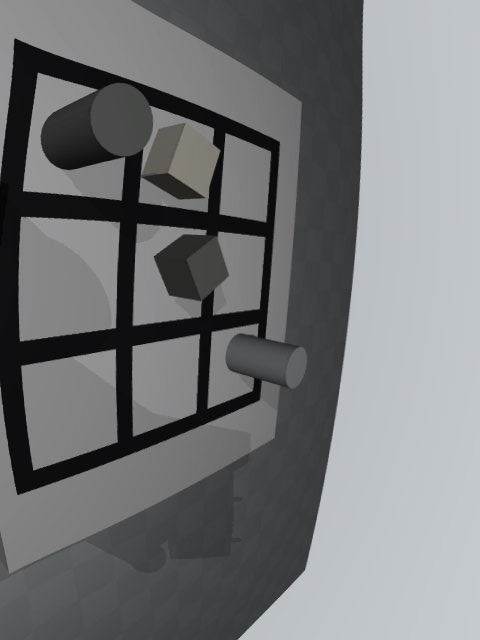can: (225, 333, 307, 389)
cube: (154, 234, 229, 302)
cylinder: (41, 82, 153, 170)
foam: (141, 122, 220, 199)
